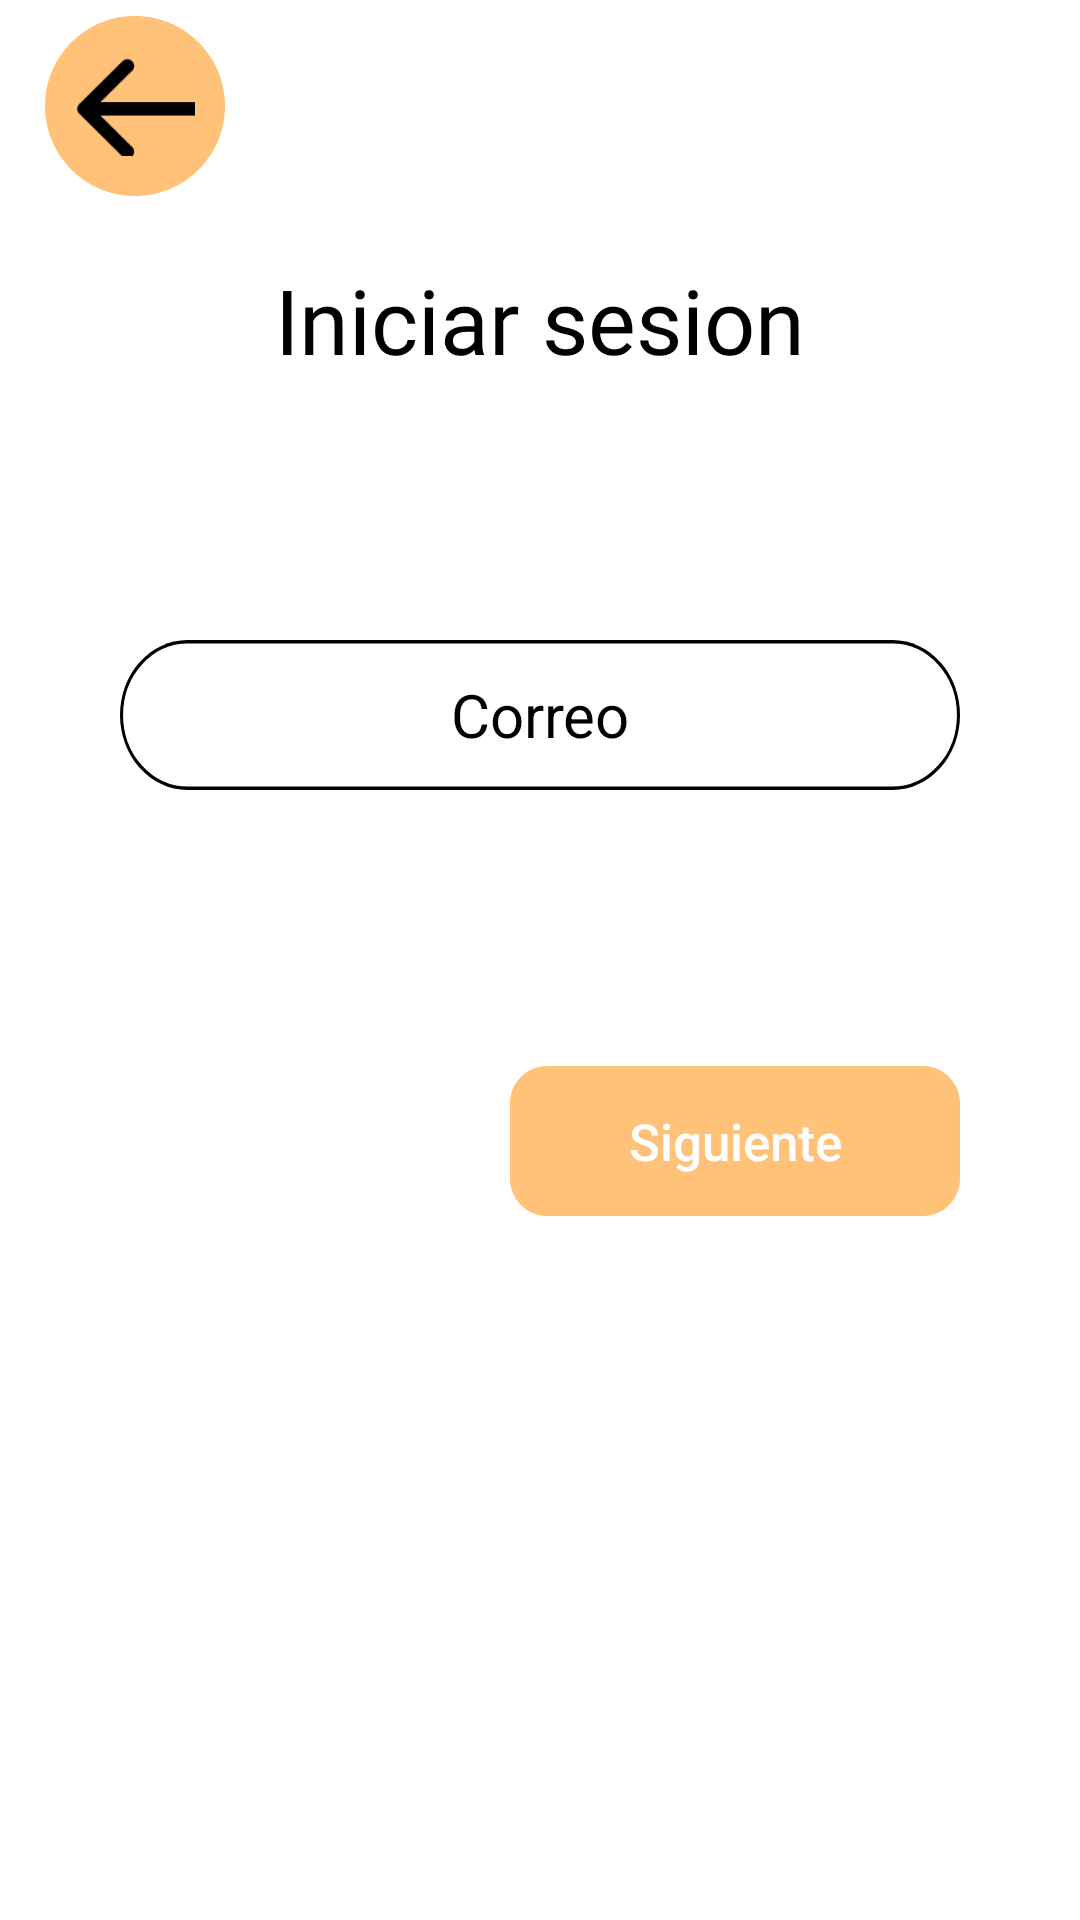

Where to tap for icons on this 1080*1920 app screen, as [x,y]:
flecha: [135,106]
